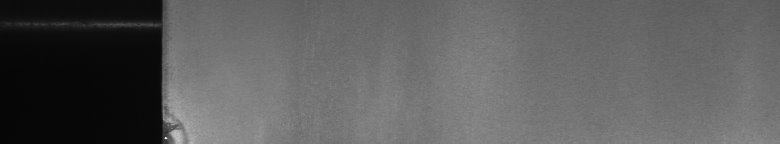hb: (172, 110, 192, 136)
